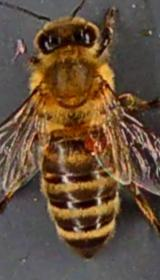varroa_mite: (72, 128, 112, 156)
